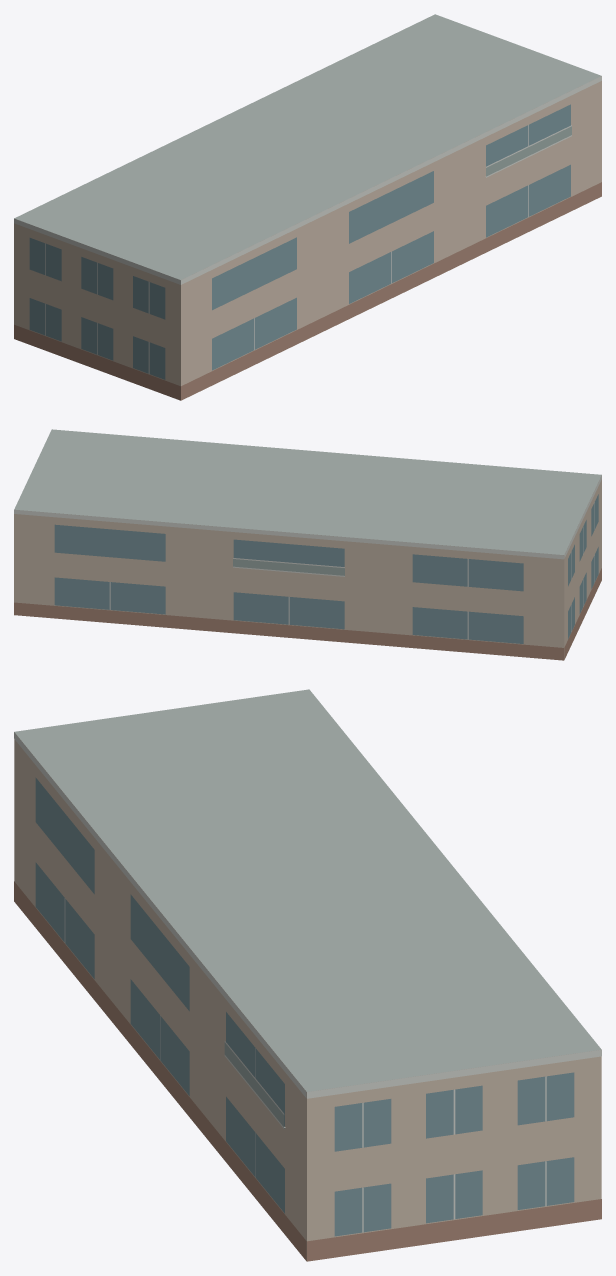
File: survey-upis-32836603.glb
3 renders of one model, top to bottom at view 1: azimuth 30°, elevation 25°; view 2: azimuth 150°, elevation 25°; view 3: azimuth 270°, elevation 25°, orthographic. The views are drawn at different scales.
Parts seen in each view (by area): view 1: survey-upis-32836603.tmp; view 2: survey-upis-32836603.tmp; view 3: survey-upis-32836603.tmp.
Boxes of the visible parts, x1=… form: survey-upis-32836603.tmp: x1=14, y1=14, x2=601, y2=400; survey-upis-32836603.tmp: x1=14, y1=429, x2=601, y2=660; survey-upis-32836603.tmp: x1=14, y1=689, x2=601, y2=1261.
Size of the model in its own units: 31.09 by 6.1 by 19.18.
